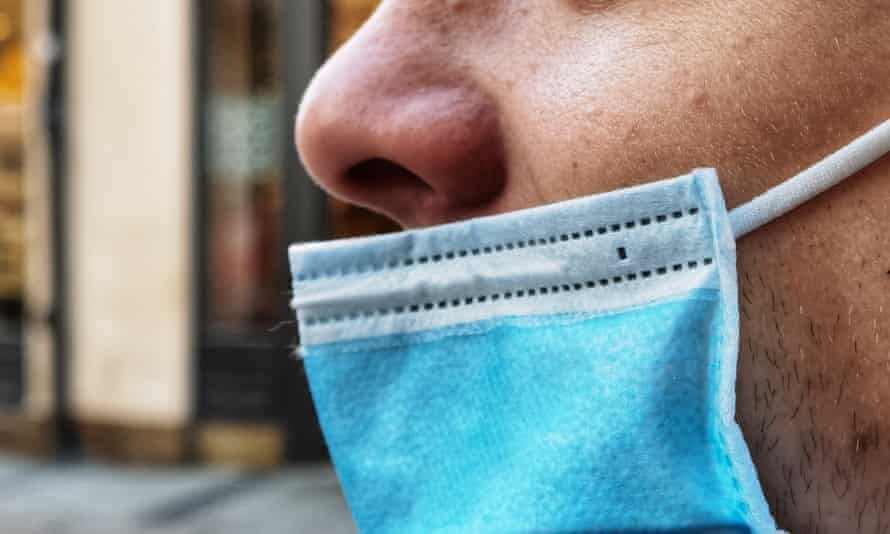mask_weared_incorrect: (275, 1, 776, 534)
